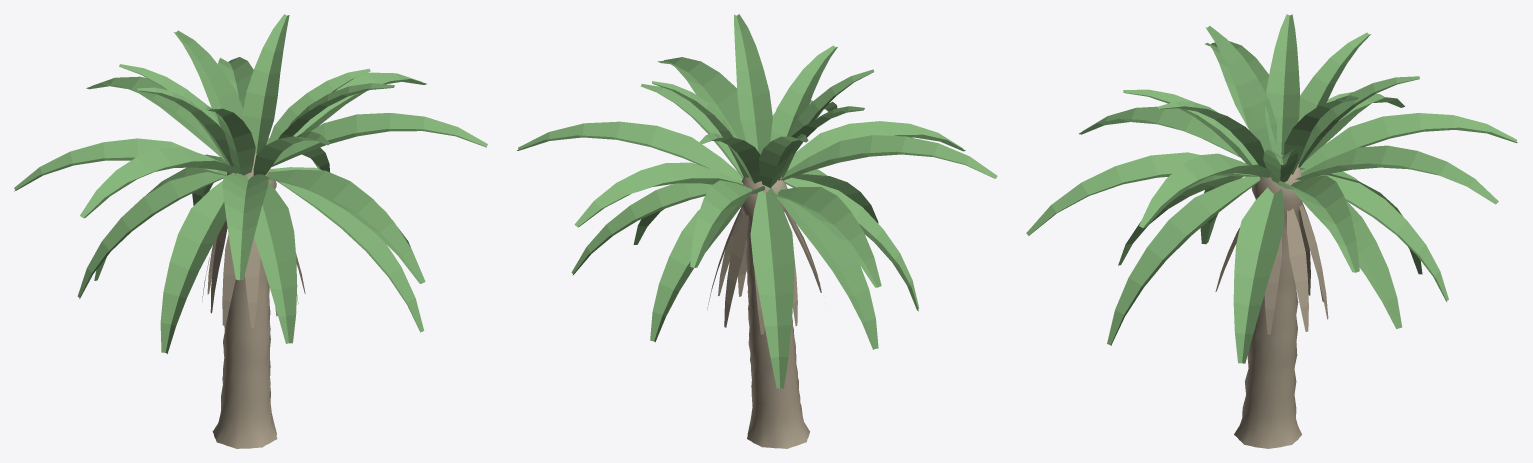
Rendered from palm_canary_short.glb.
3 renders of one model, left to right at view 1: azimuth 30°, elevation 25°; view 2: azimuth 150°, elevation 25°; view 3: azimuth 270°, elevation 25°, orthographic. The views are drawn at different scales.
Parts seen in each view (by area): view 1: palm_canary_short; view 2: palm_canary_short; view 3: palm_canary_short.
Part boxes in pixels (x1=…): palm_canary_short: x1=14, y1=14, x2=487, y2=448; palm_canary_short: x1=517, y1=14, x2=997, y2=448; palm_canary_short: x1=1026, y1=14, x2=1517, y2=448.
Size of the model in its own units: 9.73 by 8.24 by 9.7.
